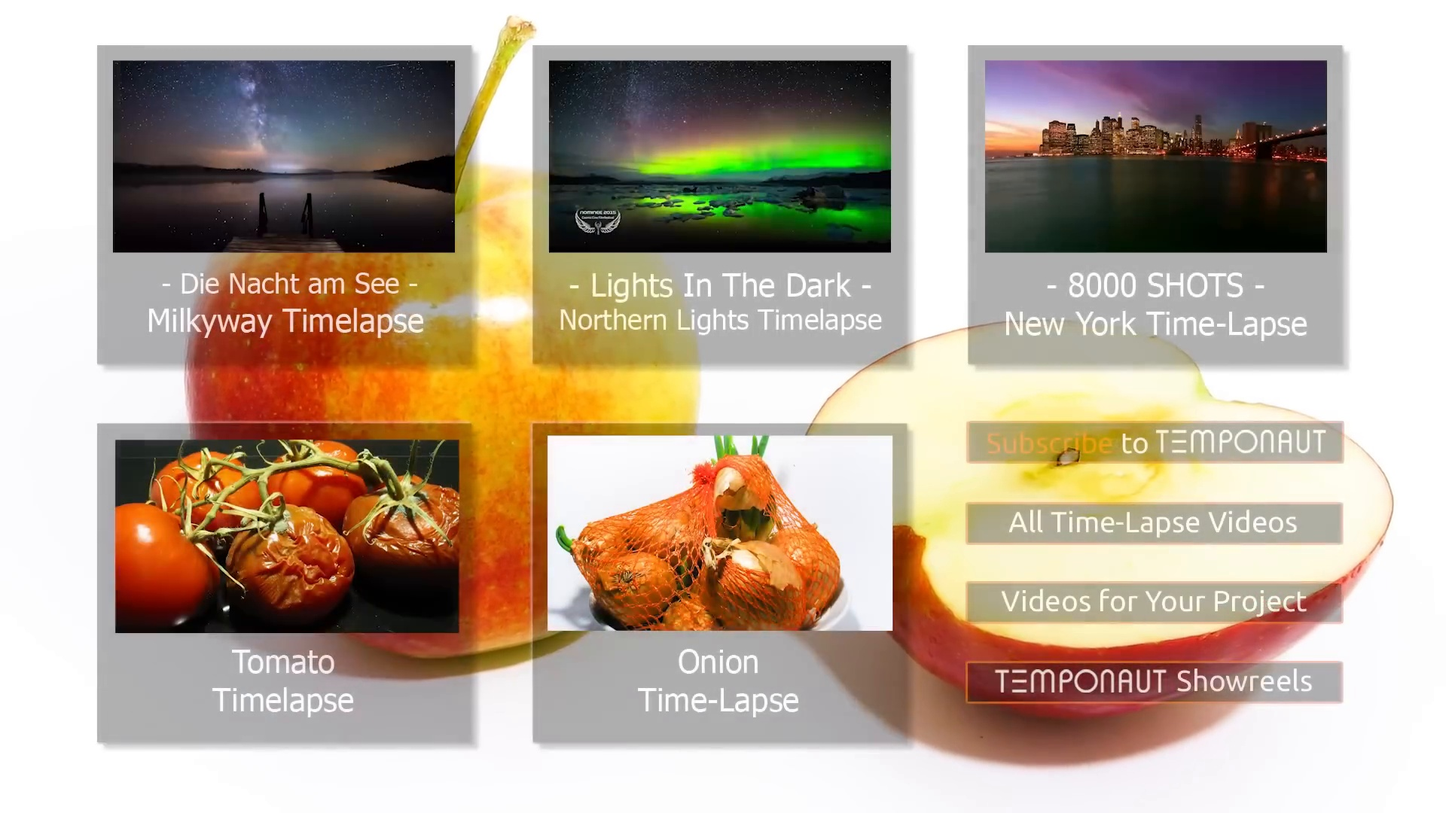apple_rotten: (173, 15, 703, 666)
